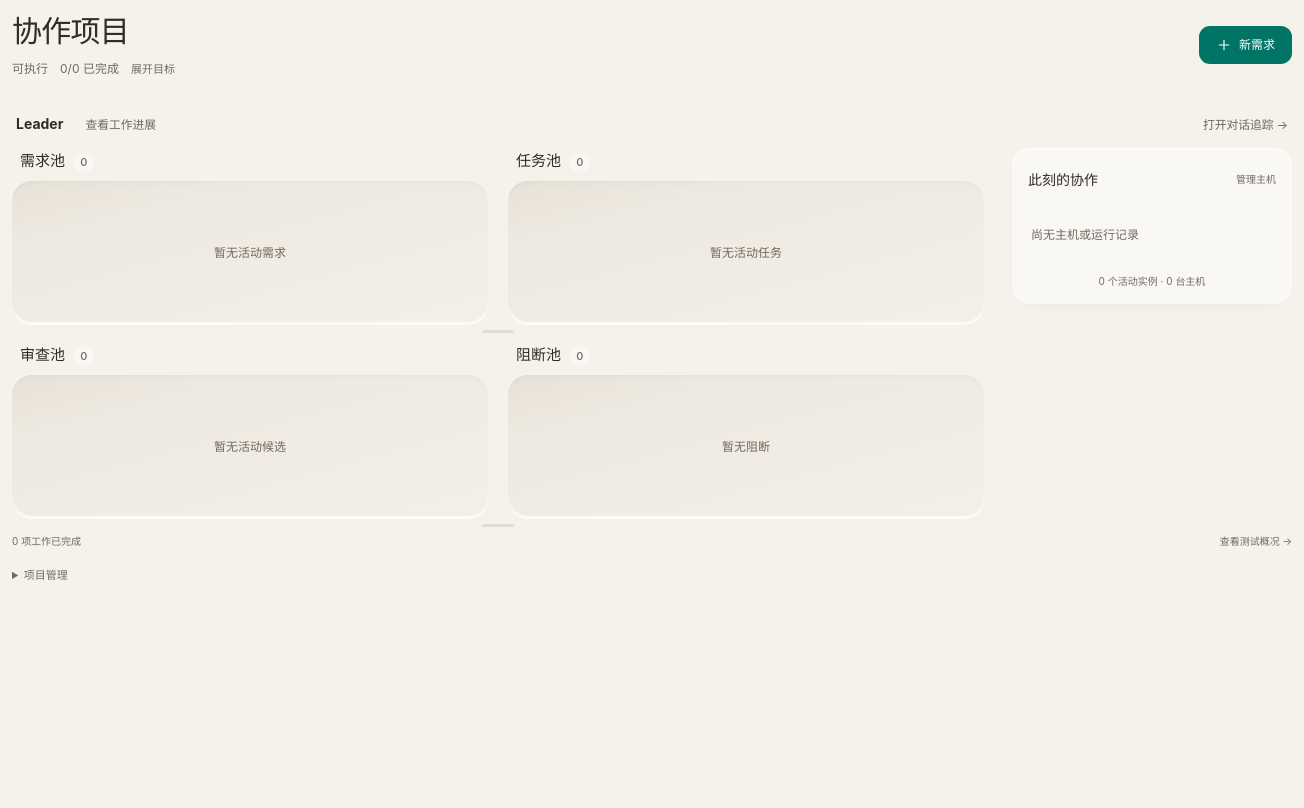
Test: Overview factual work lists › keeps the complete goal available through a labelled disclosure
Click the button "展开目标" at (153, 69), box [131,60,175,79]
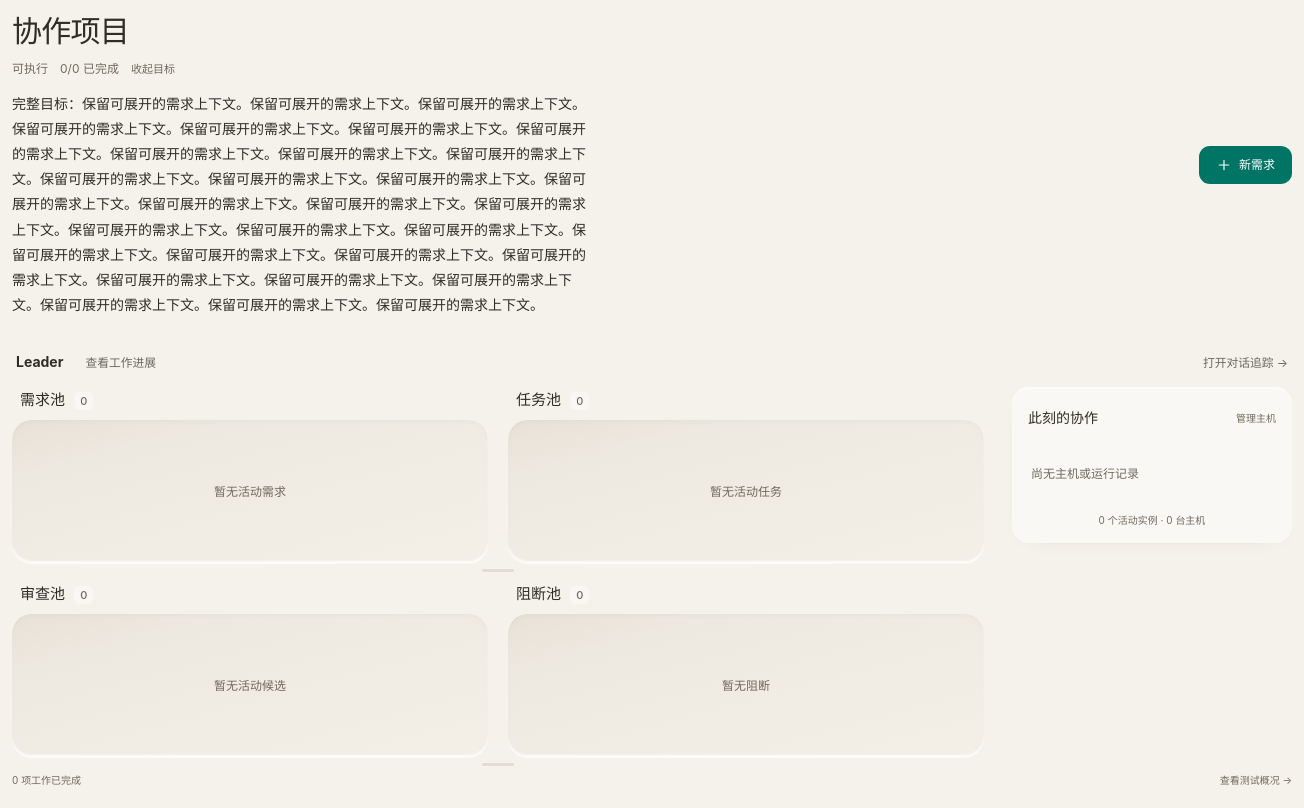
Now the button "收起目标" is expanded
Click the button "收起目标" at (153, 69), box [131,60,175,79]
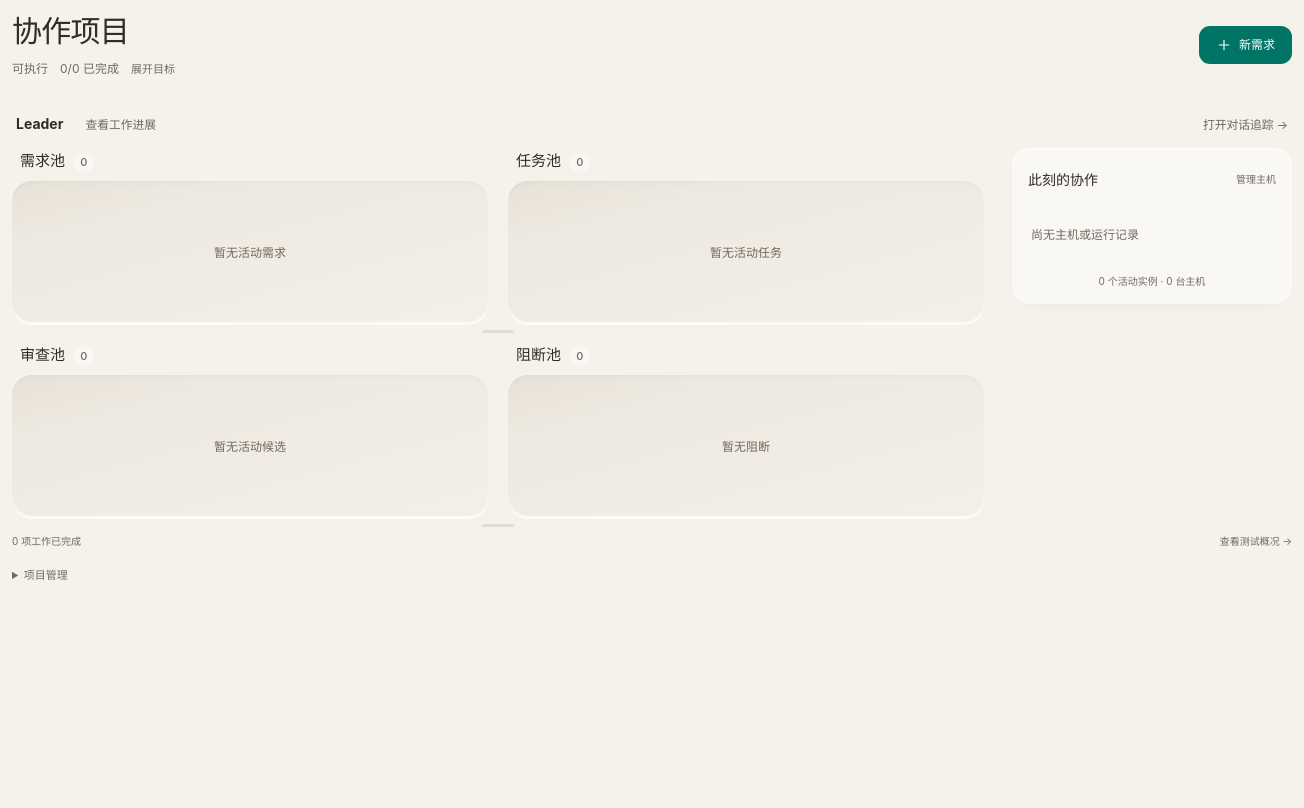
Now the button named "收起目标" is collapsed, box [131,60,175,79]
